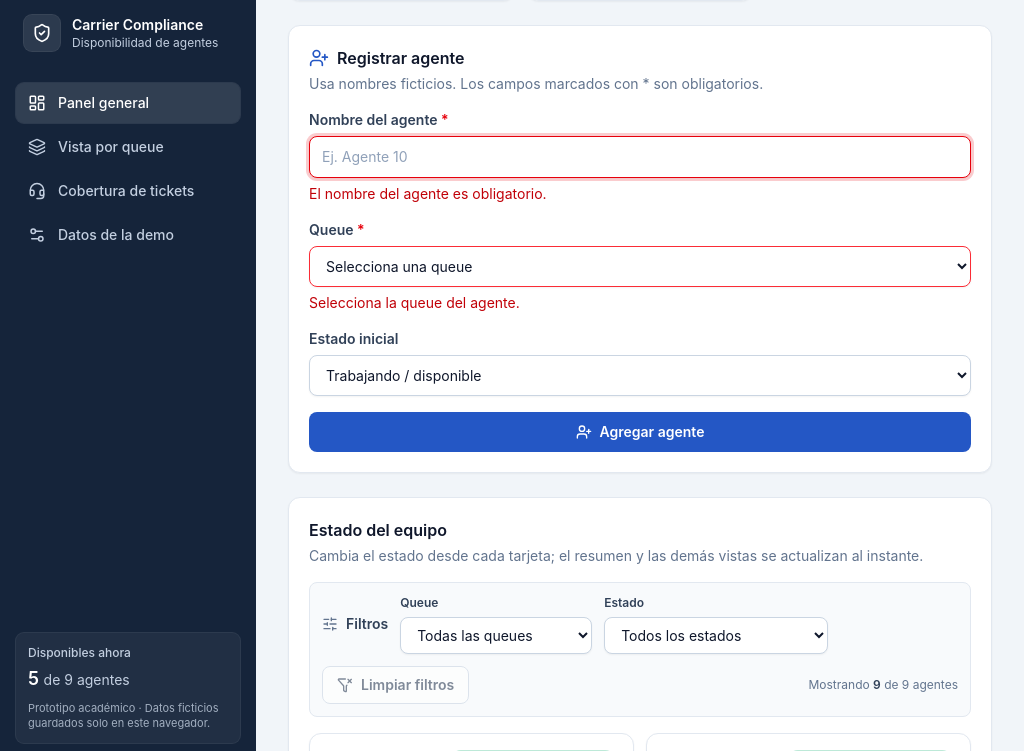
Panel de disponibilidad › valida el formulario, registra agentes y evita duplicados
Earlier steps of the test are not shown.
(page scrolled)
Expected: the text "El nombre del agente es obligatorio." is shown, [309,185,547,202]
Type "Agente 10" into the field labelled "Nombre del agente *" at [640, 157], box [309,136,971,178]
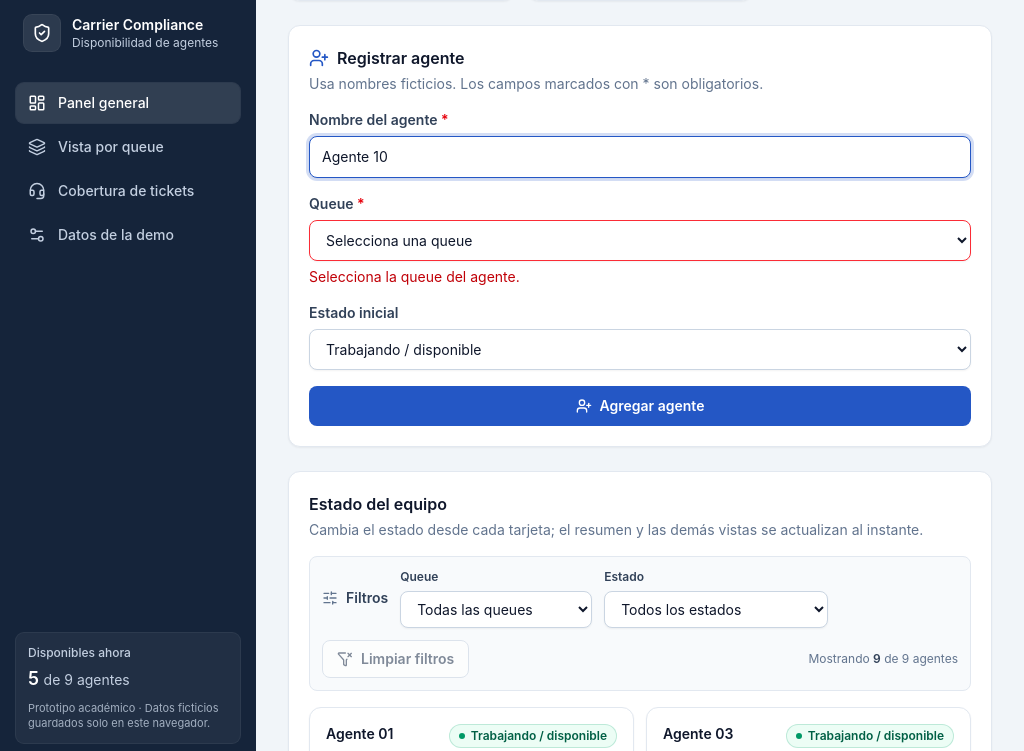
Click the button "Agregar agente" at [640, 406], box [309,386,971,426]
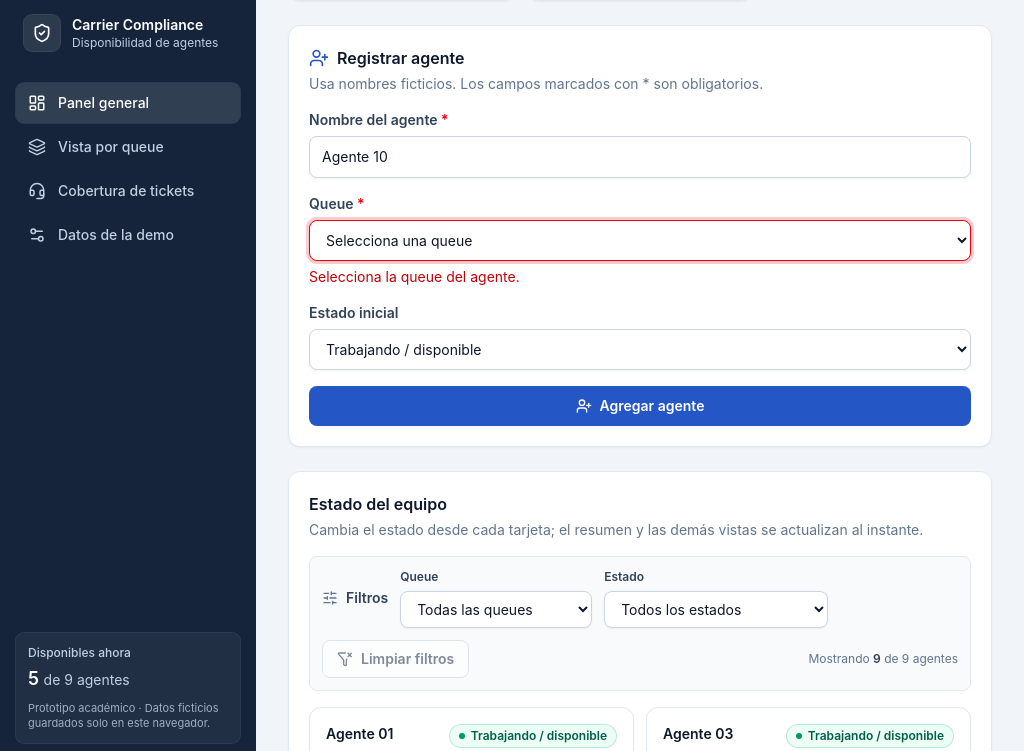
Result: the text "Selecciona la queue del agente." is shown at [309,268,520,285]
Select "LoadRule" in the dropdown labelled "Queue *" at [640, 240], box [309,220,971,261]
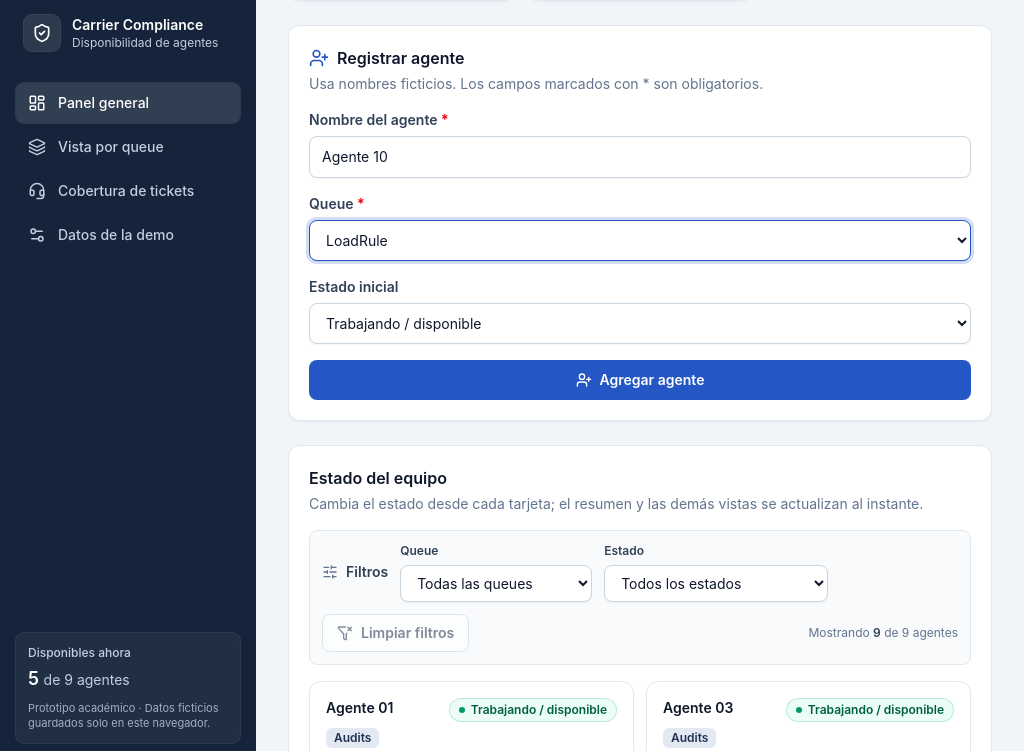
Expected: the dropdown labelled "Estado inicial" shows "Trabajando / disponible", [309,303,971,344]
Click the button "Agregar agente" at [640, 380], box [309,360,971,400]
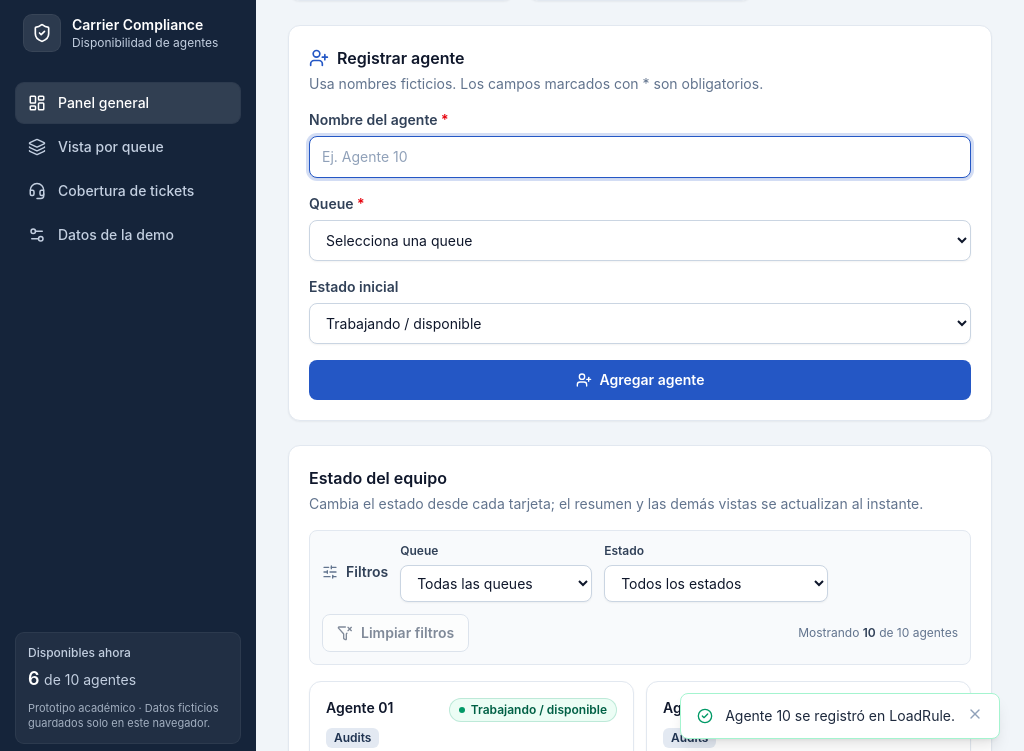
Result: the text "Agente 10 se registró en LoadRule." is shown at [725,706,955,726]
Result: the field labelled "Nombre del agente *" is empty
Type "  agente 10 " into the field labelled "Nombre del agente *" at [640, 157], box [309,136,971,178]
Select "Audits" in the dropdown labelled "Queue *" at [640, 240], box [309,220,971,261]
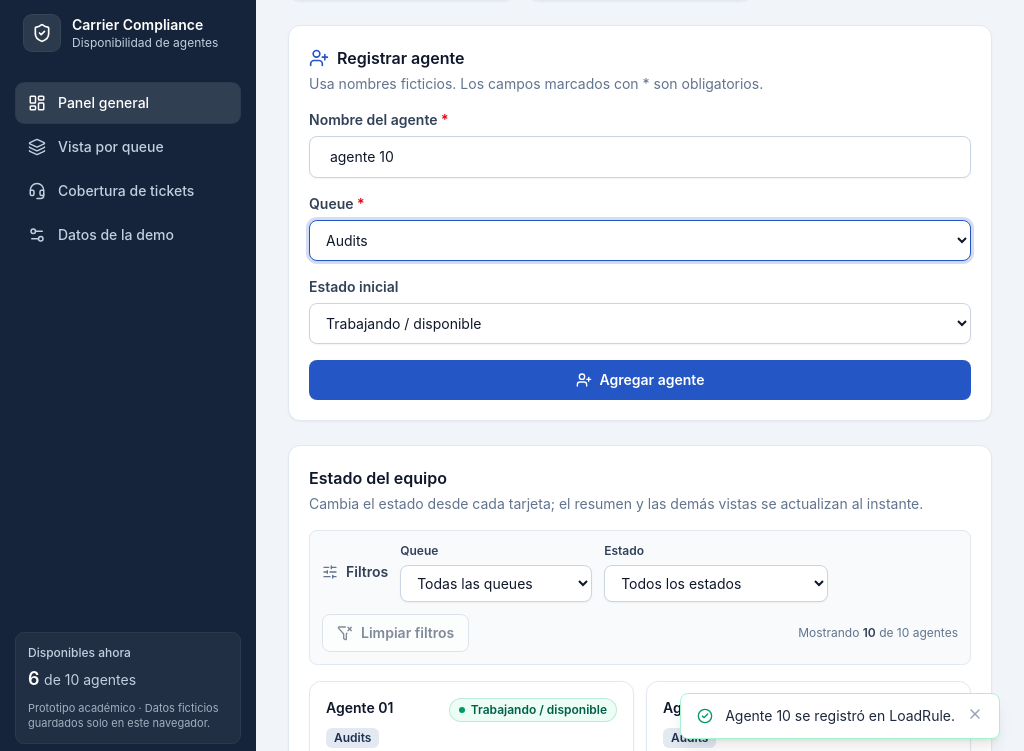
Click the button "Agregar agente" at [640, 380], box [309,360,971,400]
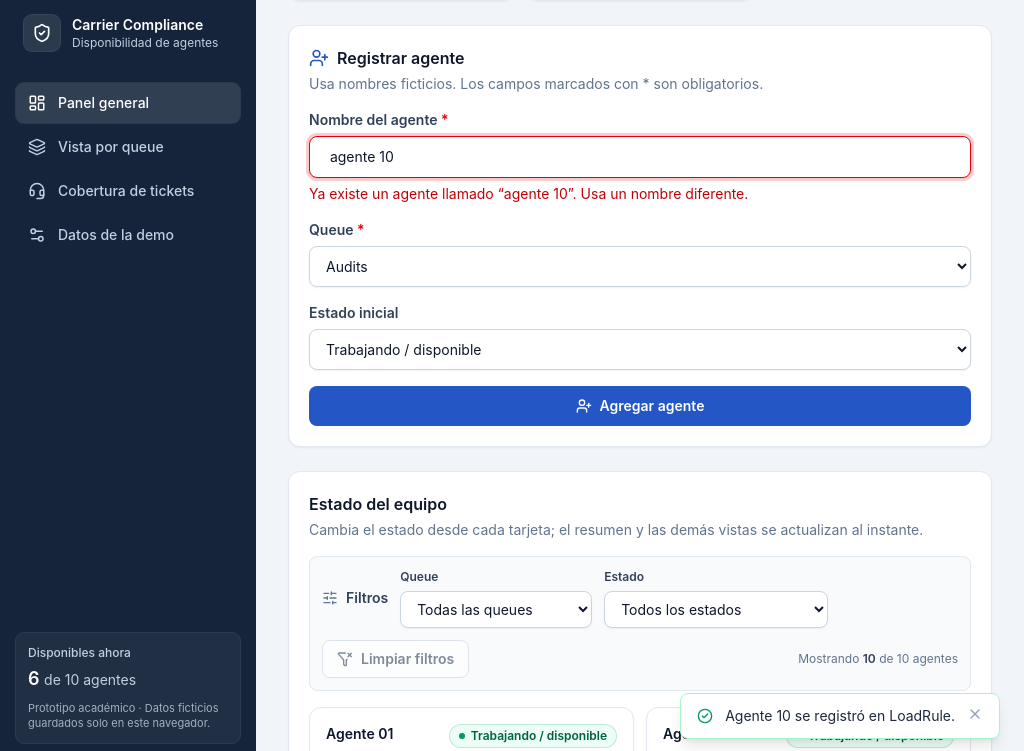
Result: the text "Ya existe un agente llamado “agente 10”. Usa un nombre diferente." is shown at [309,185,748,202]
